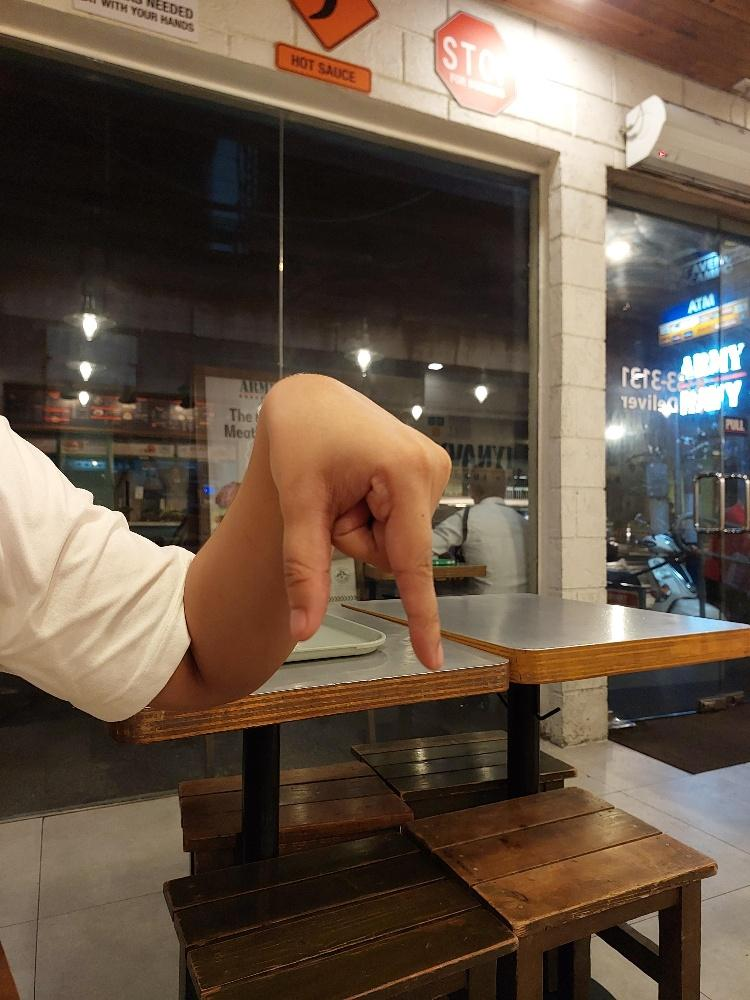q: (266, 371, 453, 673)
